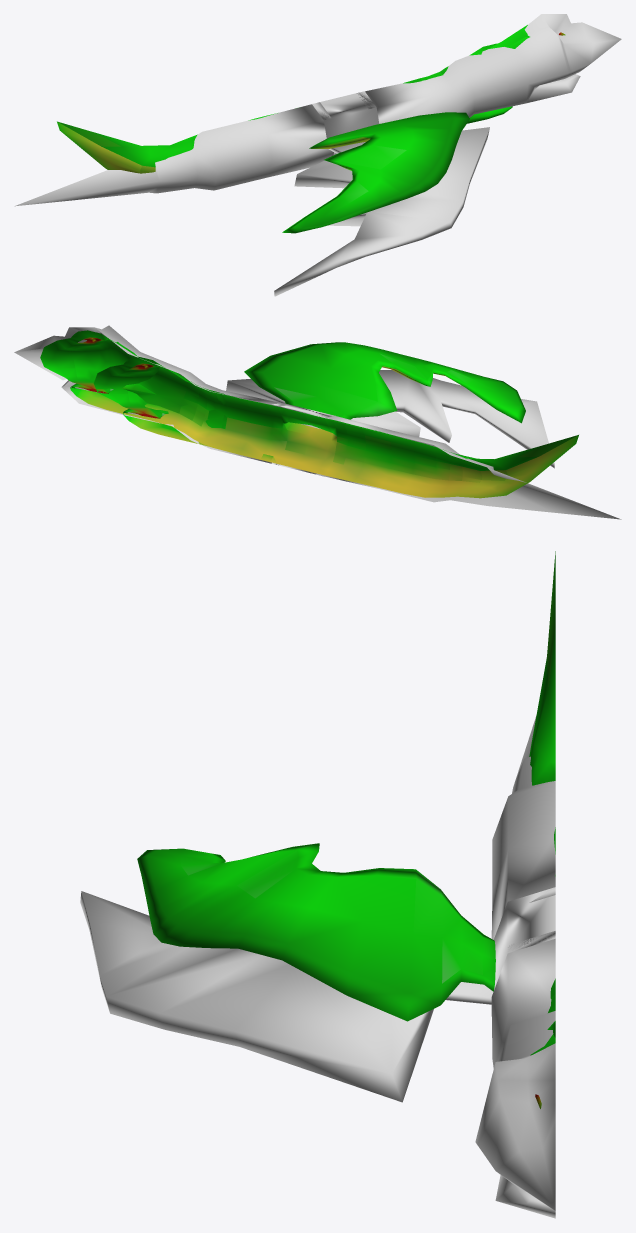
3 renders of one model, top to bottom at view 1: azimuth 30°, elevation 25°; view 2: azimuth 150°, elevation 25°; view 3: azimuth 270°, elevation 25°, orthographic. The views are drawn at different scales.
Parts seen in each view (by area): view 1: Cube_001, Cube, Cube_007; view 2: Cube, Cube_001, Cube_007; view 3: Cube_001, Cube.
Boxes of the visible parts, x1,y1,x2,y2 form: Cube_001: (14,14,621,296); Cube: (57,25,565,233); Cube_007: (420,43,512,123); Cube: (40,330,578,498); Cube_001: (14,325,621,519); Cube_007: (93,357,227,447); Cube_001: (80,715,555,1218); Cube: (137,551,555,1108).
Size of the model in its own units: 22.21 by 7.52 by 4.69.
